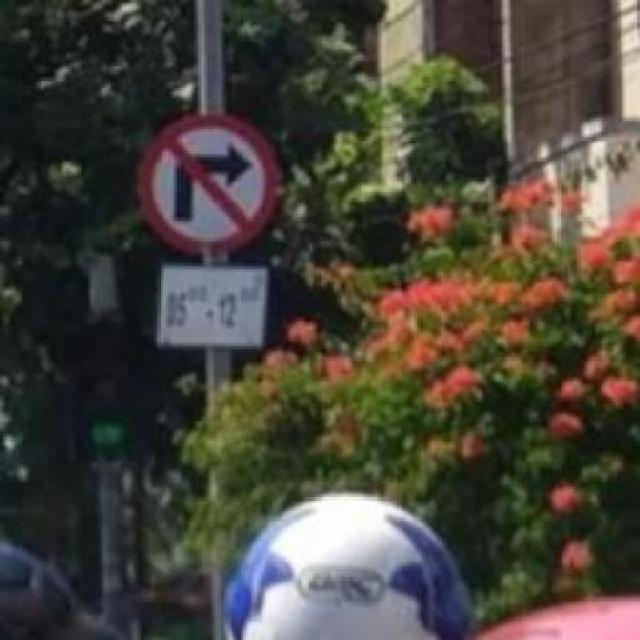right turn prohibited: (140, 115, 279, 260)
